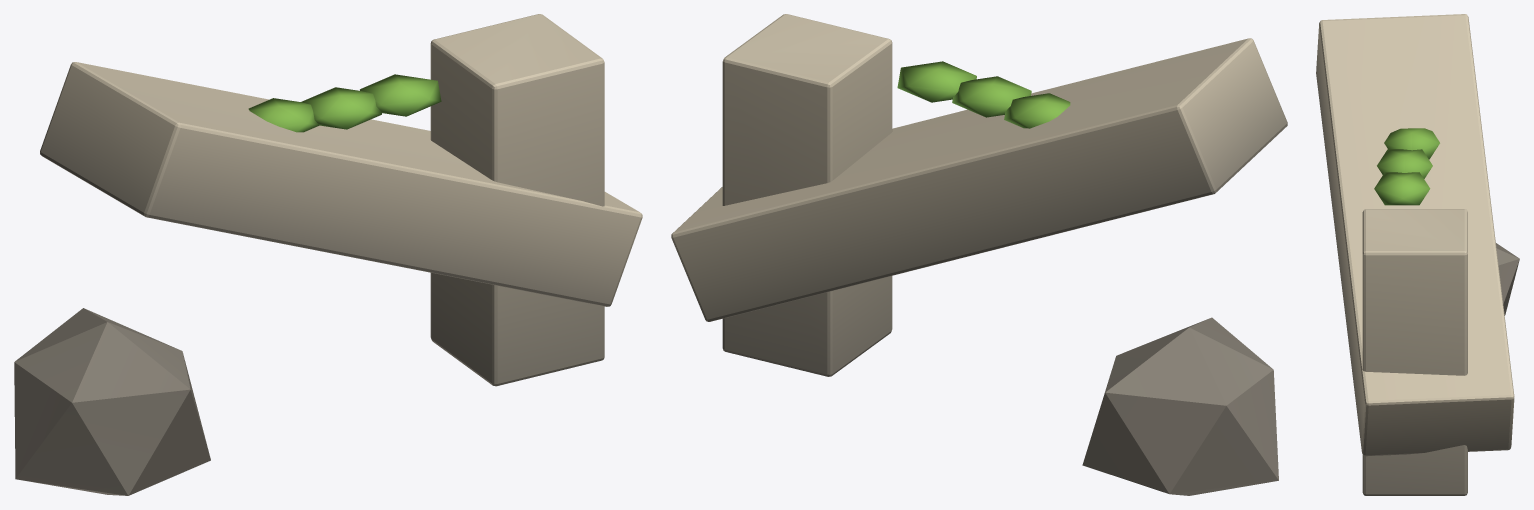
The model's file is ruin_slab.glb.
The picture shows the model from 3 angles, left to right: view 1: azimuth 30°, elevation 25°; view 2: azimuth 150°, elevation 25°; view 3: azimuth 270°, elevation 25°; orthographic projection. The views are drawn at different scales.
Parts seen in each view (by area): view 1: Slab; view 2: Slab; view 3: Slab.
Part boxes in pixels (x1,y1,x2,y2): Slab: (14,14,642,495); Slab: (671,14,1287,495); Slab: (1316,14,1519,495).
Size of the model in its own units: 3.67 by 2.5 by 1.36.
